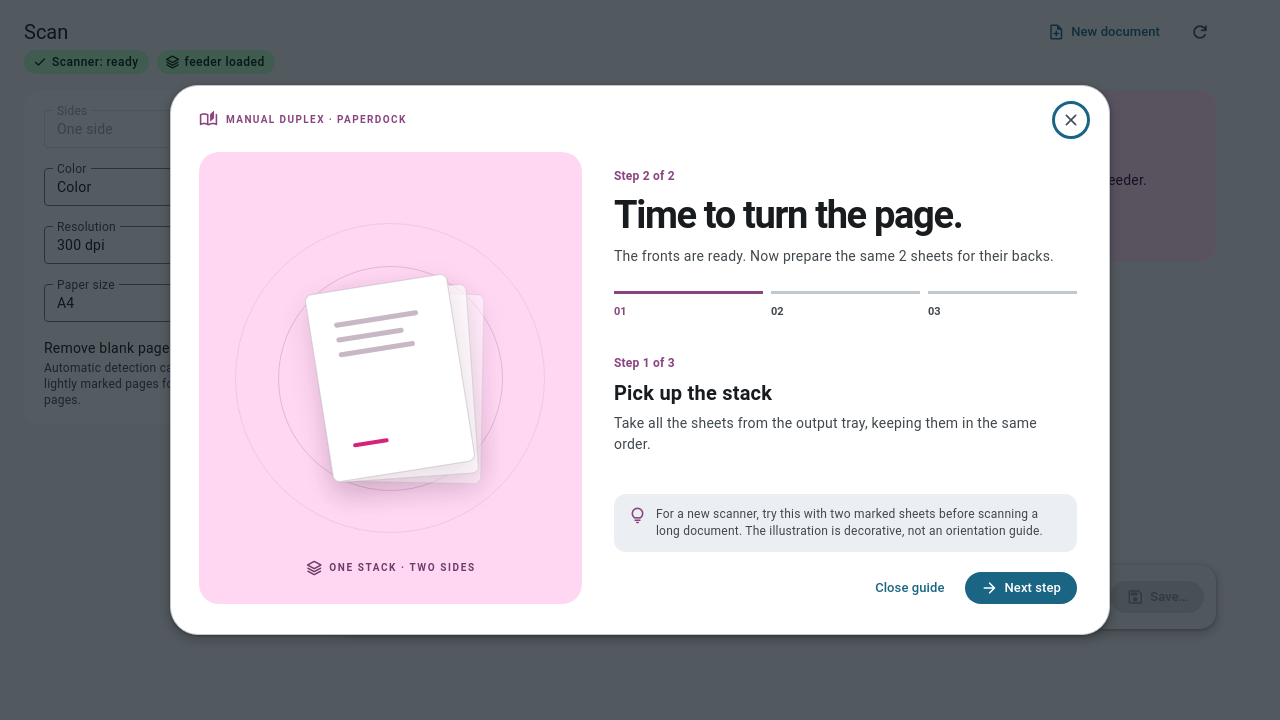
scanning documents › explains how to proceed when scanning the backs fails
expect the heading "Pick up the stack" is shown: met, box [614,381,772,405]
expect the text "illustration is decorative" is shown: met, box [656,507,1043,538]
Click the button "Next step": click(1021, 588) [964,572,1077,604]
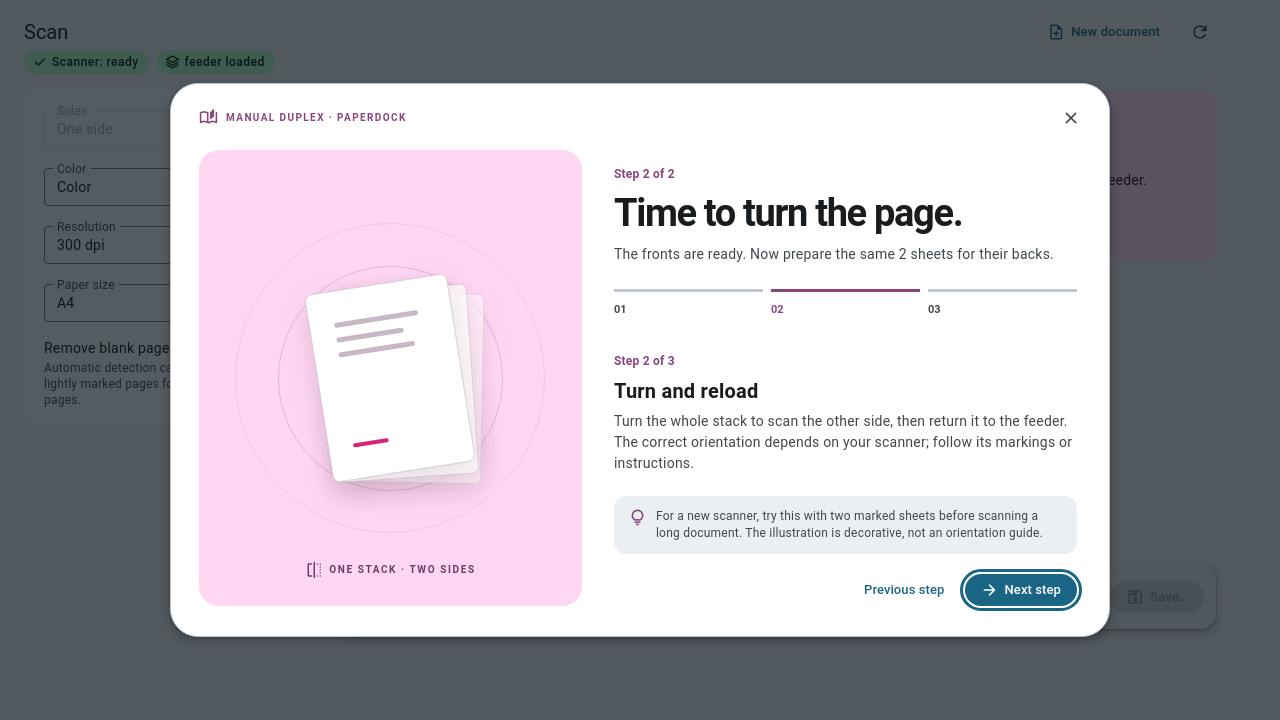
Click the button "Next step": click(1021, 590) [964,574,1077,606]
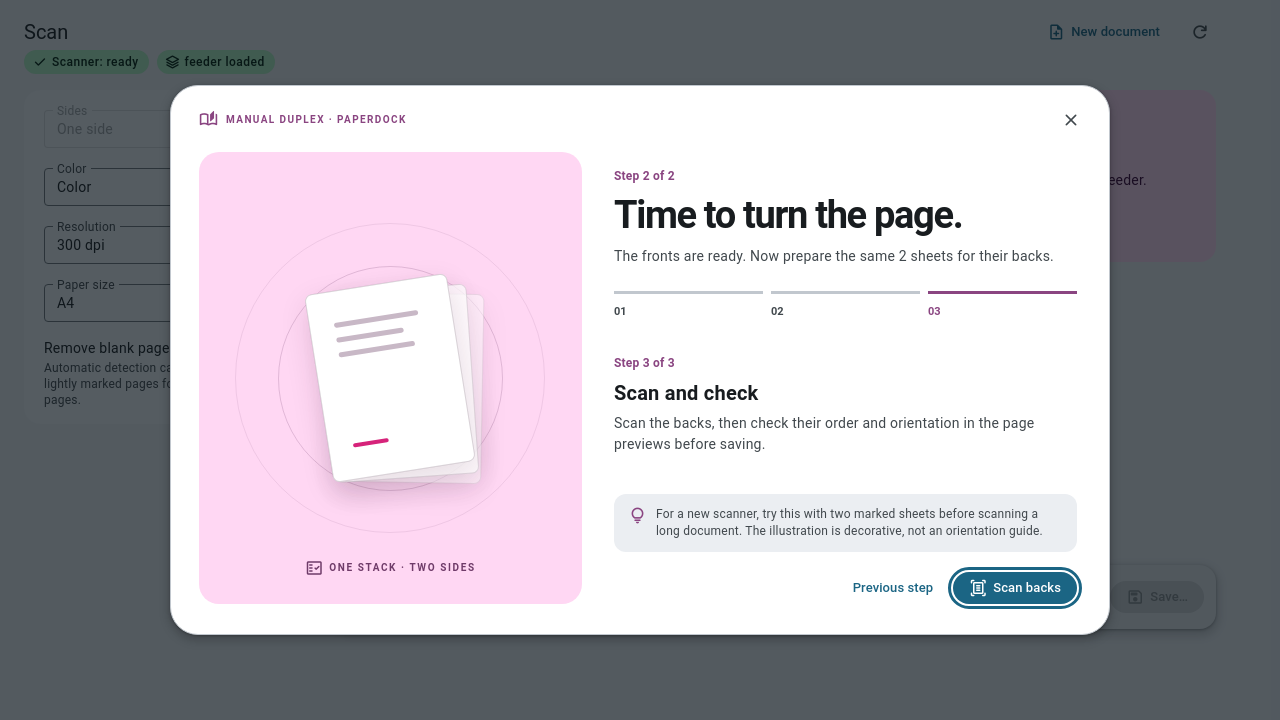
Click the button "Scan backs": click(1015, 588) [953,572,1077,604]
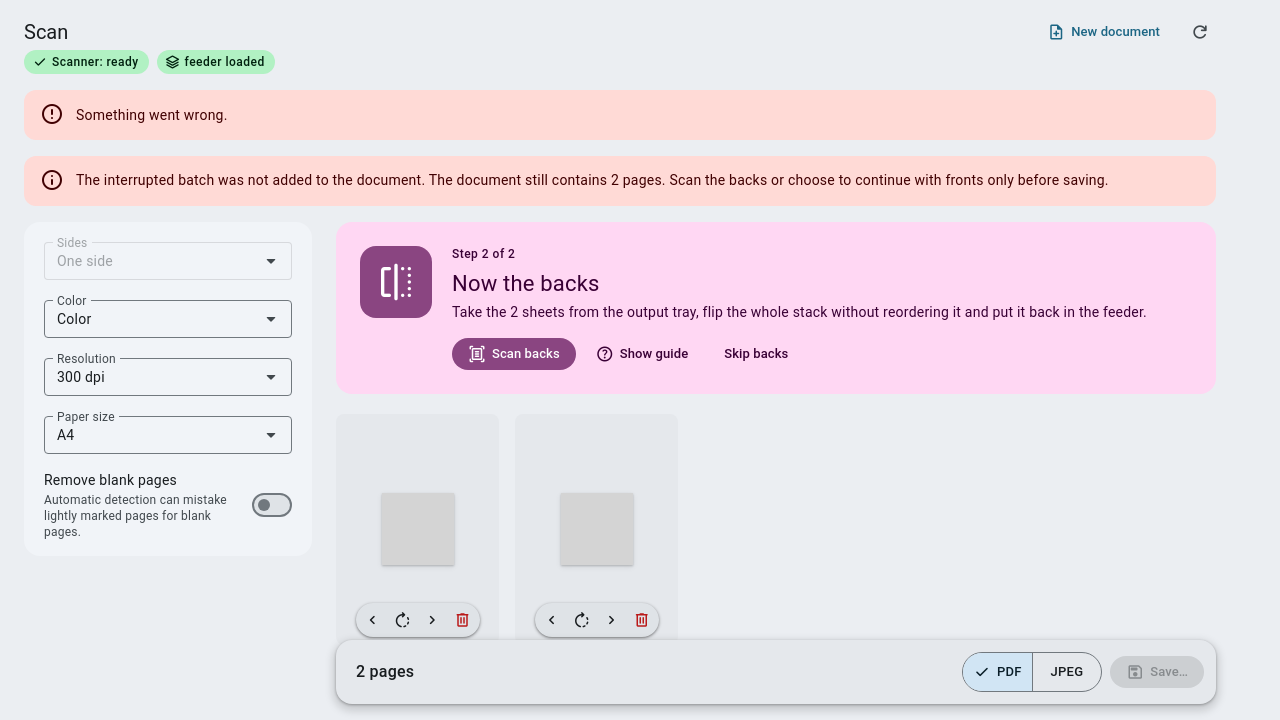
expect the text "interrupted batch was not added" shows "Scan the backs or choose to continue with fronts only before saving.": met, box [429,172,1109,188]
